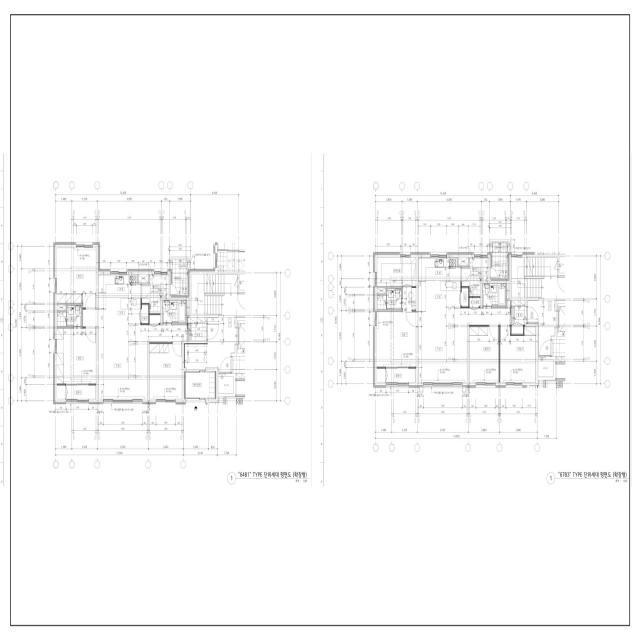space_balconi: (141, 274, 169, 313), (461, 258, 489, 297), (66, 384, 96, 399), (386, 368, 416, 382)
space_bedroom: (57, 248, 96, 308), (57, 327, 96, 384), (377, 311, 416, 367), (499, 326, 536, 383), (149, 343, 182, 399), (469, 327, 499, 382)
space_dressroom: (377, 258, 416, 287), (403, 287, 416, 311)
space_elevator: (237, 320, 245, 353), (557, 304, 565, 336)
space_elevator_hall: (184, 314, 245, 373), (527, 298, 565, 357)
space_front: (184, 371, 216, 399), (188, 317, 206, 341), (511, 300, 526, 326), (511, 326, 523, 334)
space_kitchen: (418, 258, 461, 308), (98, 274, 140, 323)
space_living_room: (83, 308, 187, 399), (418, 300, 510, 382), (149, 314, 160, 325)
space_other: (538, 360, 553, 377), (218, 377, 233, 394), (461, 288, 468, 306), (141, 305, 148, 323), (57, 384, 65, 399), (377, 367, 385, 382), (469, 298, 480, 307), (239, 274, 245, 290), (458, 257, 468, 266), (138, 274, 148, 283), (377, 288, 386, 294), (57, 305, 66, 310), (507, 283, 509, 299)
space_staircase: (511, 257, 565, 298), (192, 274, 245, 314)
space_toilet: (482, 283, 506, 306), (162, 300, 186, 323), (57, 305, 82, 327), (377, 288, 402, 310)
